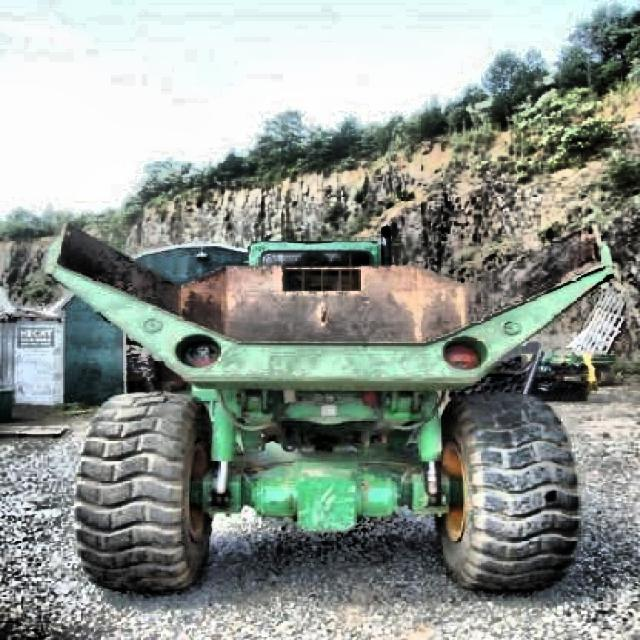dump_truck: (34, 206, 610, 589)
